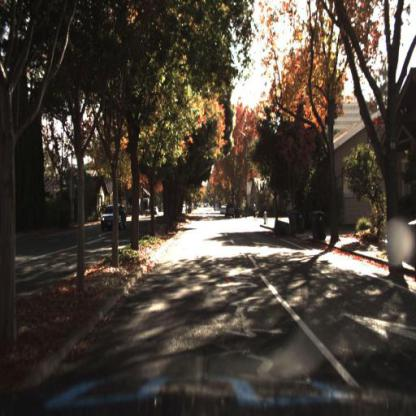car: (98, 203, 129, 235), (102, 204, 127, 229)
pedestrian: (252, 199, 258, 220)
